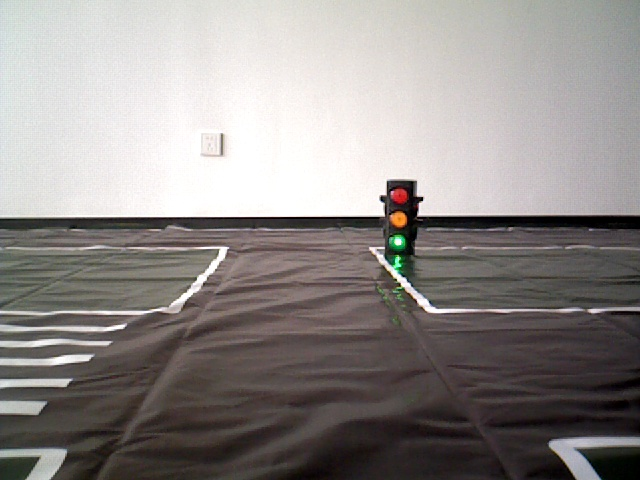green: (386, 183, 413, 251)
